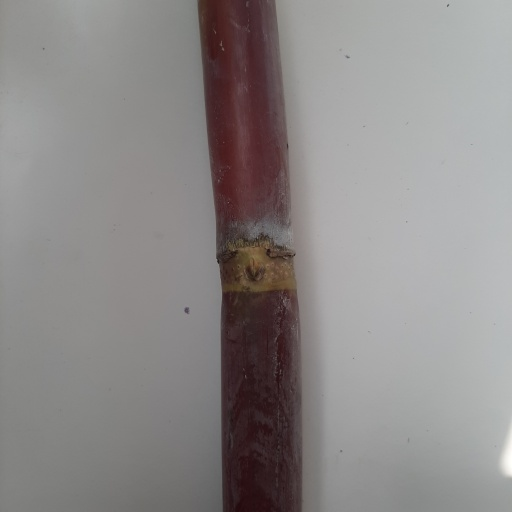Bud: (243, 257, 266, 286)
